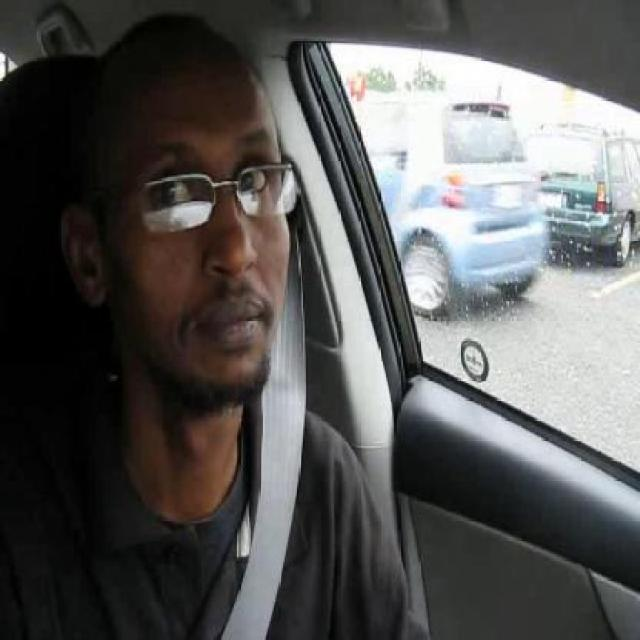awake: (153, 177, 192, 206), (238, 166, 267, 194)
